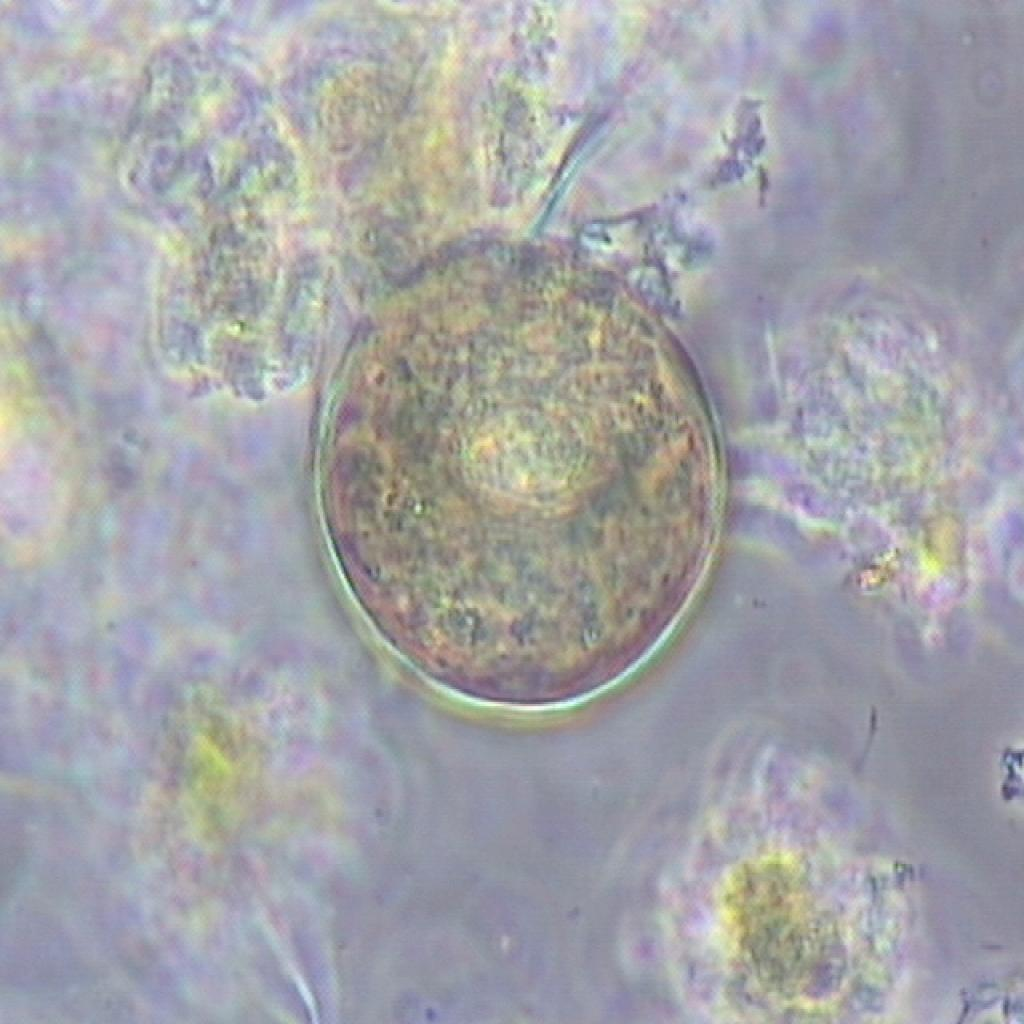Arcella: (295, 193, 729, 724)
